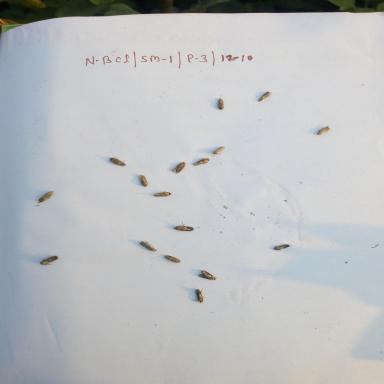pbw: (188, 286, 208, 306), (195, 266, 219, 282), (136, 238, 158, 255), (35, 190, 58, 205), (213, 95, 231, 113), (38, 254, 59, 268), (108, 156, 129, 169), (172, 221, 196, 232), (254, 90, 273, 103), (208, 144, 228, 156), (171, 161, 188, 174), (272, 242, 294, 252), (149, 190, 173, 199), (316, 124, 333, 136), (136, 174, 150, 188), (164, 254, 182, 264), (193, 157, 210, 167)
